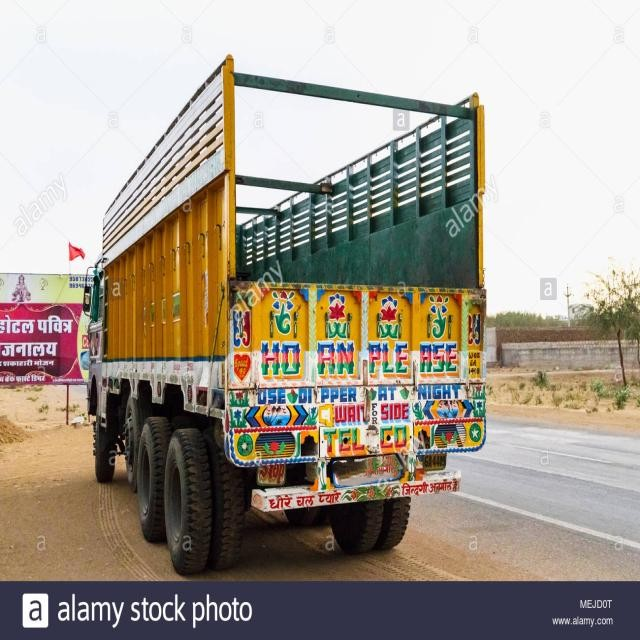truck: (90, 51, 491, 578)
